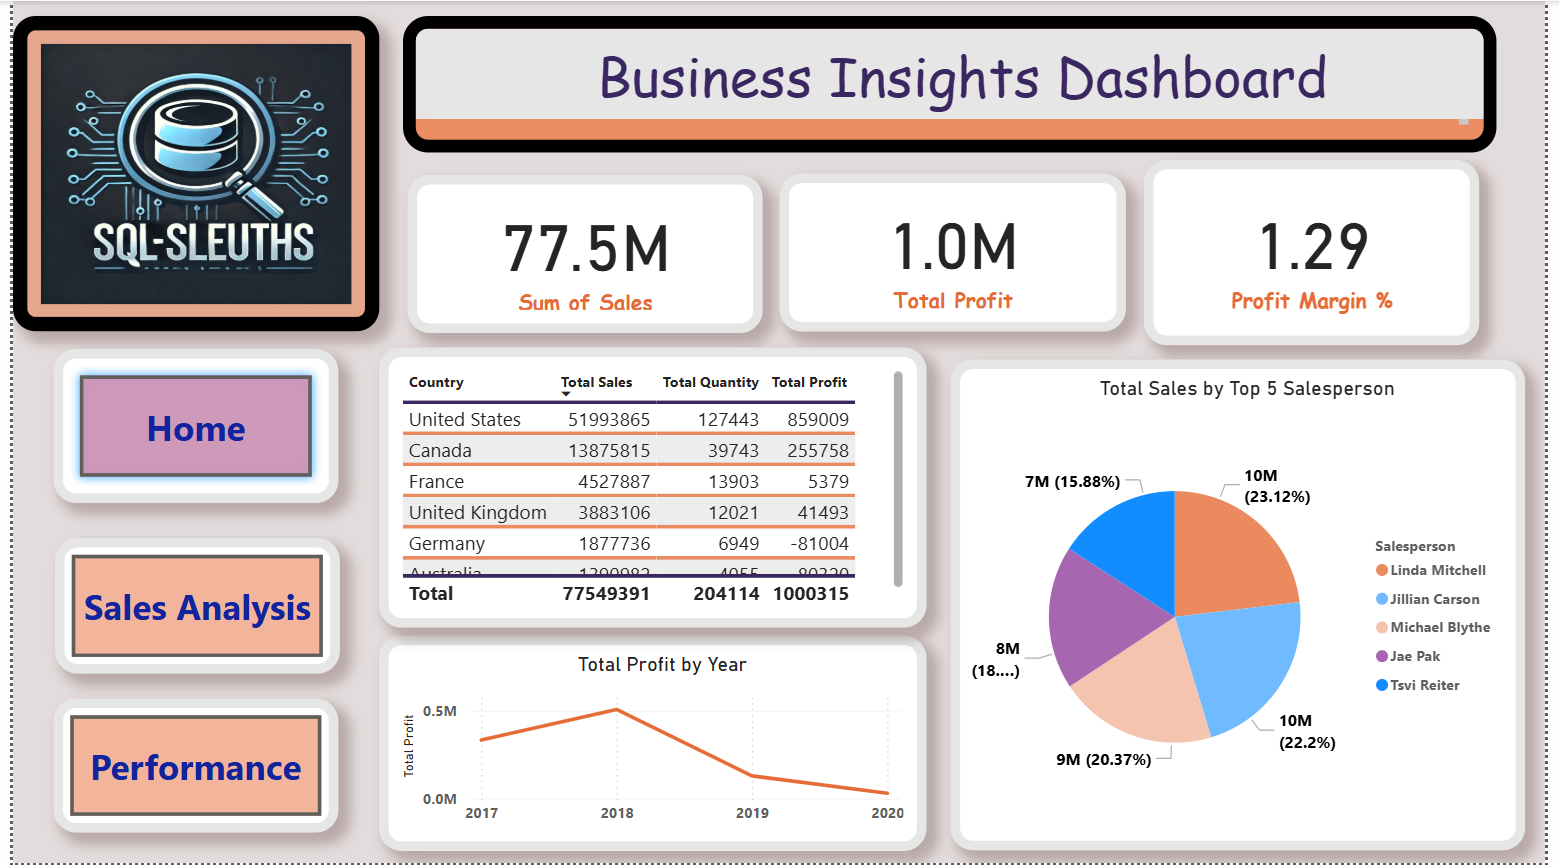

The dashboard page shown, as its layout file describes it:
{"tool":"powerbi","page":{"name":"HOME","canvas":[1280,720],"ordinal":0},"visuals":[{"type":"image","box":[0,12.1,305.9,263.5],"z":0},{"type":"textbox","title":"Business Insights Dashboard","box":[325.8,12.5,913.4,114],"z":1000},{"type":"card","fields":{"Values":["business_insights sales.Sales"]},"box":[330.1,145.4,296.8,131.7],"z":2000},{"type":"card","fields":{"Values":["Sales.Total Profit"]},"box":[640.5,143.8,289.2,131.7],"z":3000},{"type":"card","fields":{"Values":["Sales.Profit Margin %"]},"box":[943.5,144.1,280.7,131.6],"z":4000},{"type":"lineChart","fields":{"Category":["Sales.OrderDate.Variation.Date Hierarchy.Year","Sales.OrderDate.Variation.Date Hierarchy.Quarter","Sales.OrderDate.Variation.Date Hierarchy.Month","Sales.OrderDate.Variation.Date Hierarchy.Day"],"Y":["Sales.Total Profit"]},"box":[305.9,530,457.3,180.2],"z":5000},{"type":"tableEx","fields":{"Values":["Regions.Country","Sales.Total Sales","Sales.Total Quantity","Sales.Total Profit"]},"box":[305.7,289.4,457.3,234.3],"z":6000},{"type":"pieChart","title":"Total Sales by  Top 5 Salesperson","fields":{"Category":["SalesPerson.Salesperson"],"Y":["Sales.Total Sales"]},"box":[783.1,290.7,479.9,418.5],"z":7000},{"type":"actionButton","box":[34.8,448.2,237.7,113.6],"z":8000},{"type":"actionButton","box":[33.3,583,237.7,112.1],"z":9000},{"type":"actionButton","box":[33.3,290.7,237.7,128.7],"z":10000}]}

Visuals, with their boxes in screenshot pixels (x1, y1, x2, y2), scaled from the page's 1280x720 canvas onto the 1559x865 screenshot:
image: bbox=[0, 15, 373, 331]
"Business Insights Dashboard" textbox: bbox=[397, 15, 1509, 152]
card - business_insights sales.Sales: bbox=[402, 175, 764, 333]
card - Sales.Total Profit: bbox=[780, 173, 1132, 331]
card - Sales.Profit Margin %: bbox=[1149, 173, 1491, 331]
lineChart - Sales.OrderDate.Variation.Date Hierarchy.Year x Sales.OrderDate.Variation.Date Hierarchy.Quarter: bbox=[373, 637, 930, 853]
tableEx - Regions.Country x Sales.Total Sales: bbox=[372, 348, 929, 629]
"Total Sales by  Top 5 Salesperson" pieChart: bbox=[954, 349, 1538, 852]
actionButton: bbox=[42, 538, 332, 675]
actionButton: bbox=[41, 700, 330, 835]
actionButton: bbox=[41, 349, 330, 504]
